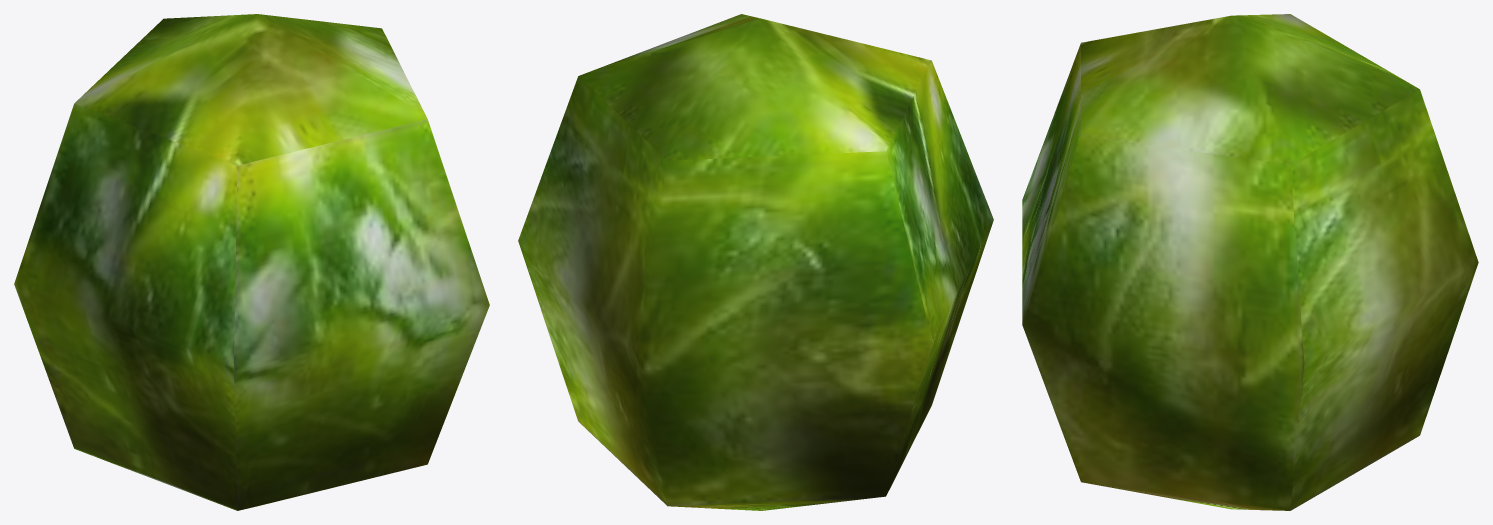
File: Brussel_sprouts.glb
3 views of the same model, side by side, from view 1: azimuth 30°, elevation 25°; view 2: azimuth 150°, elevation 25°; view 3: azimuth 270°, elevation 25° (orthographic).
Parts seen in each view (by area): view 1: Brussel_sprouts; view 2: Brussel_sprouts; view 3: Brussel_sprouts.
Part boxes in pixels (x1,y1,x2,y2): Brussel_sprouts: [14, 14, 489, 510]; Brussel_sprouts: [518, 14, 993, 510]; Brussel_sprouts: [1022, 14, 1478, 510].
Size of the model in its own units: 0.1056 by 0.12 by 0.1005.
Materials: 1 (1 with a texture image).
